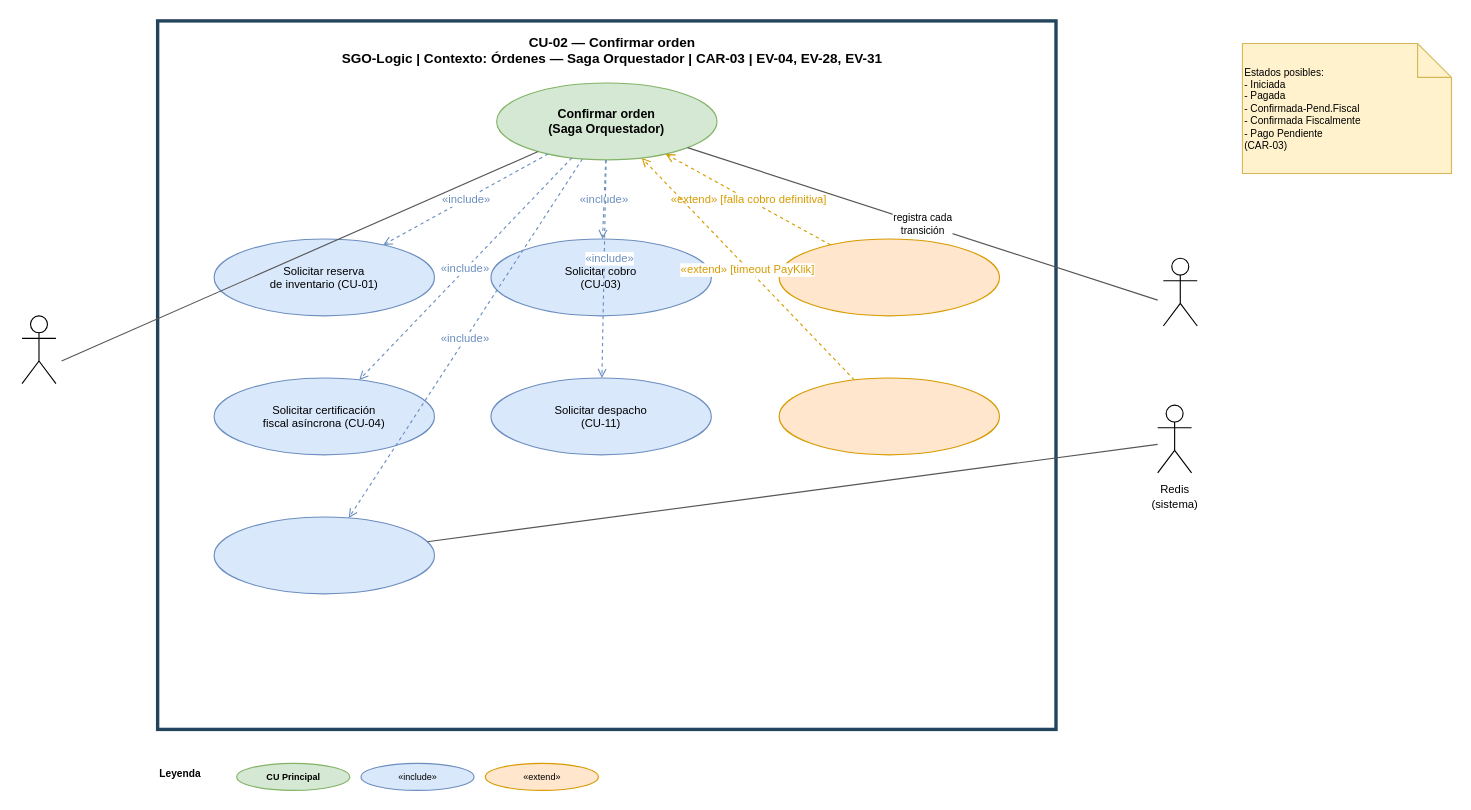
Image size: 1471x810. Some labels were removed from this diagram. The centre of each missing label's shape, as x and y in pixels:
Actualizar estado en Redis: the point at 323,555
Auditoría (sistema): the point at 1179,291
Cliente (AS-01): the point at 38,349
Ejecutar compensación (liberar reserva): the point at 888,277
Preservar orden en Pago Pendiente: the point at 888,416
